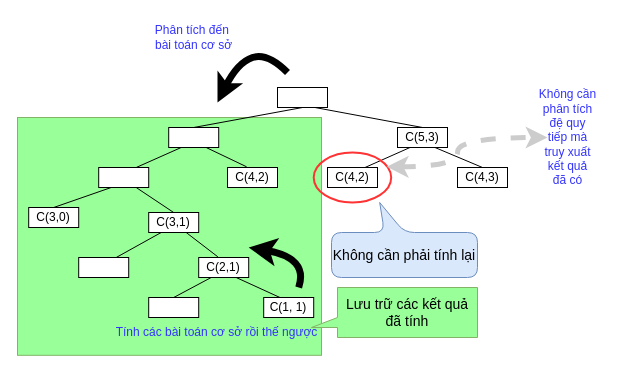
Image size: 625x373. Some labels were removed from this diagram. The shapes that lost their labels are listed below. From the top down, each one's centre as x and y in pixels, then its label:
At point (302, 97): "C(6,3)".
At point (193, 137): "C(5,2)".
At point (123, 177): "C(4,1)".
At point (103, 267): "C(2,0)".
At point (173, 307): "C(1,0)".
